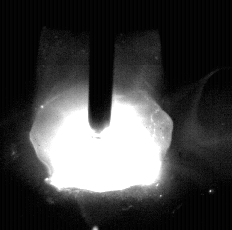arame: (89, 0, 112, 132)
poca: (29, 0, 173, 230)
